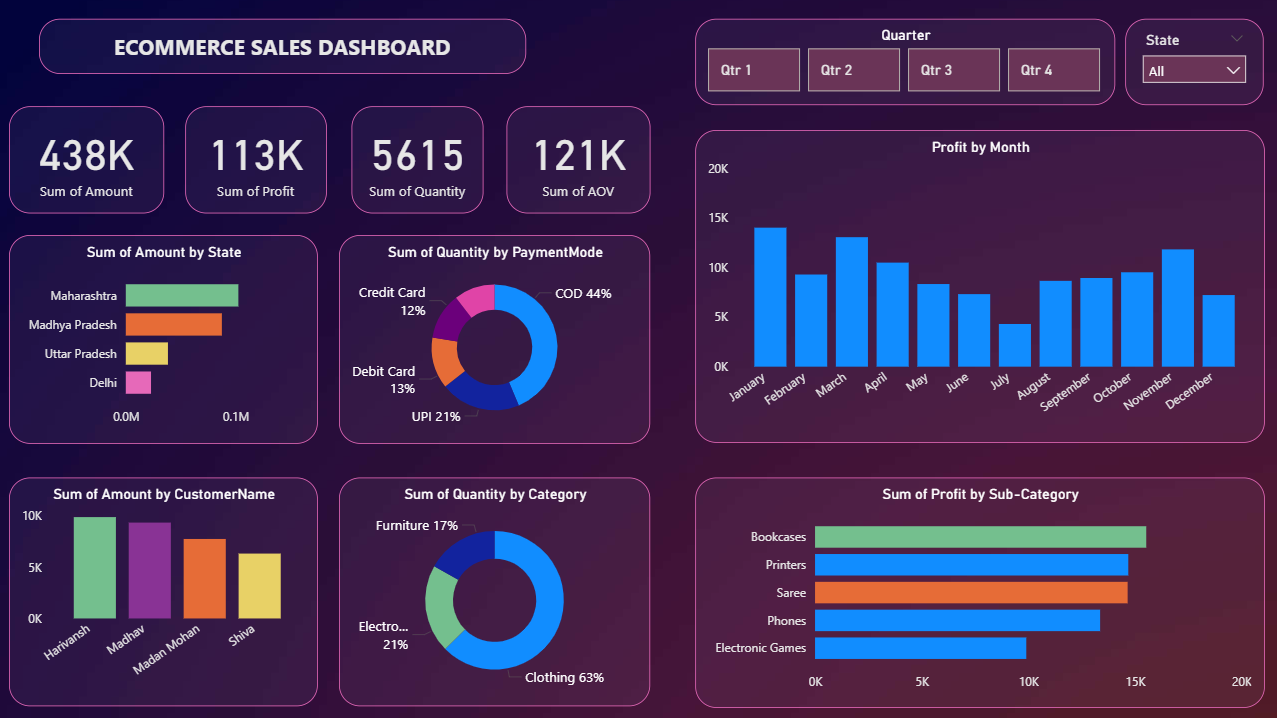

This screenshot's page, from the dashboard's own definition file:
{"tool":"powerbi","page":{"name":"Page 1","canvas":[1280,720],"ordinal":0},"visuals":[{"type":"columnChart","title":"Profit by Month","fields":{"Category":["Orders.Order Date.Variation.Date Hierarchy.Month"],"Y":["Sum(Details.Profit)"]},"box":[695.7,130.4,569.5,312.9],"z":0},{"type":"barChart","fields":{"Category":["Details.Sub-Category"],"Y":["Sum(Details.Profit)"]},"box":[695.7,477.5,569.5,230.5],"z":1000},{"type":"donutChart","fields":{"Category":["Details.Category"],"Y":["Sum(Details.Quantity)"]},"box":[340.3,477.5,311.5,229.2],"z":2000},{"type":"donutChart","fields":{"Category":["Details.PaymentMode"],"Y":["Sum(Details.Quantity)"]},"box":[340.3,234.6,311.5,208.6],"z":3000},{"type":"card","fields":{"Values":["Sum(Details.Amount)"]},"box":[9.6,105.7,155.1,107],"z":4000},{"type":"card","fields":{"Values":["Sum(Details.Profit)"]},"box":[186.6,105.7,141.3,107],"z":5000},{"type":"card","fields":{"Values":["Sum(Details.Quantity)"]},"box":[352.7,105.7,131.7,107],"z":6000},{"type":"card","fields":{"Values":["Sum(Details.AOV)"]},"box":[507.7,105.7,144.1,107],"z":7000},{"type":"barChart","fields":{"Y":["Sum(Details.Amount)"],"Category":["Orders.State"]},"box":[9.6,234.6,308.7,208.6],"z":8000},{"type":"columnChart","fields":{"Y":["Sum(Details.Amount)"],"Category":["Orders.CustomerName"]},"box":[9.6,477.5,308.7,229.2],"z":9000},{"type":"textbox","box":[39.8,19.2,487.1,54.9],"z":10000},{"type":"advancedSlicerVisual","fields":{"Values":["Orders.Order Date.Variation.Date Hierarchy.Quarter"]},"box":[695.7,19.2,419.9,86.4],"z":11000},{"type":"slicer","fields":{"Values":["Orders.State"]},"box":[1126.6,19.2,138.6,86.4],"z":12000}]}

Visuals, with their boxes in screenshot pixels (x1, y1, x2, y2), scaled from the page's 1280x720 canvas onto the 1277x718 screenshot:
"Profit by Month" columnChart: 694/130/1262/442
barChart - Details.Sub-Category x Sum(Details.Profit): 694/476/1262/706
donutChart - Details.Category x Sum(Details.Quantity): 340/476/650/705
donutChart - Details.PaymentMode x Sum(Details.Quantity): 340/234/650/442
card - Sum(Details.Amount): 10/105/164/212
card - Sum(Details.Profit): 186/105/327/212
card - Sum(Details.Quantity): 352/105/483/212
card - Sum(Details.AOV): 507/105/650/212
barChart - Sum(Details.Amount) x Orders.State: 10/234/318/442
columnChart - Sum(Details.Amount) x Orders.CustomerName: 10/476/318/705
textbox: 40/19/526/74
advancedSlicerVisual - Orders.Order Date.Variation.Date Hierarchy.Quarter: 694/19/1113/105
slicer - Orders.State: 1124/19/1262/105
